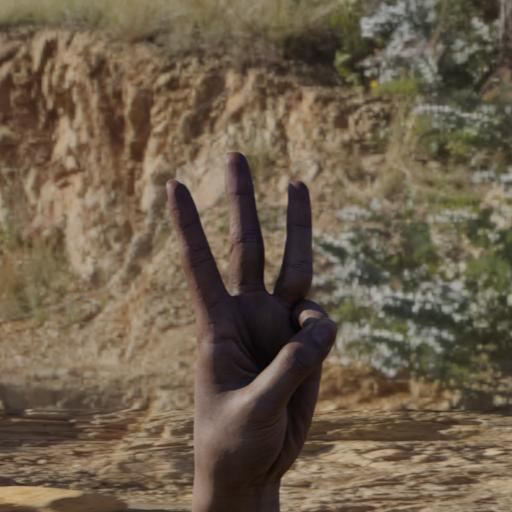W: (152, 137, 346, 471)
